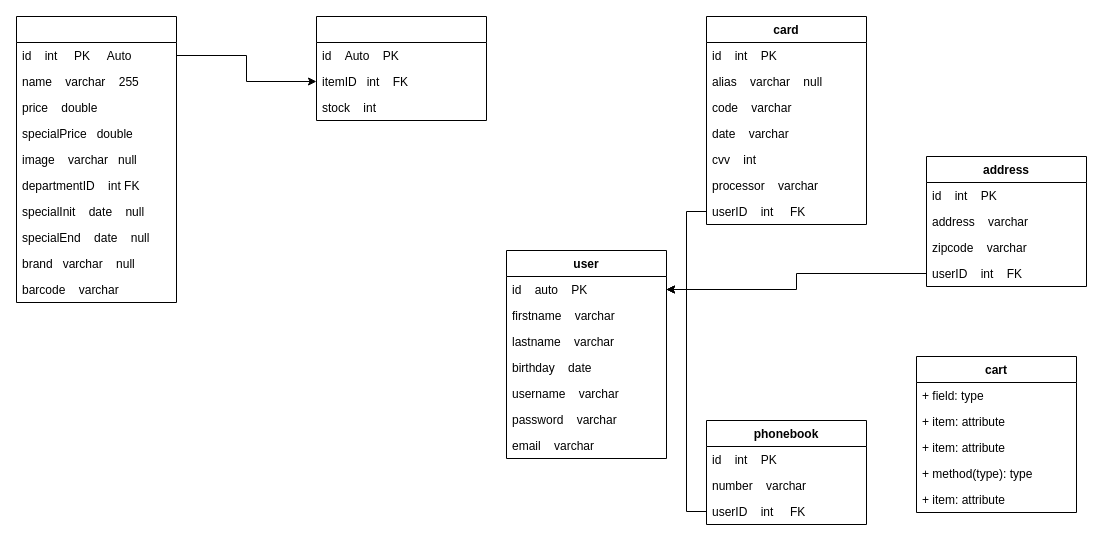
This 1103x541 diagram has some shape labels left out. Each missing label, with the box of its shape:
item: (16, 16, 176, 302)
warehouse: (316, 16, 486, 120)
